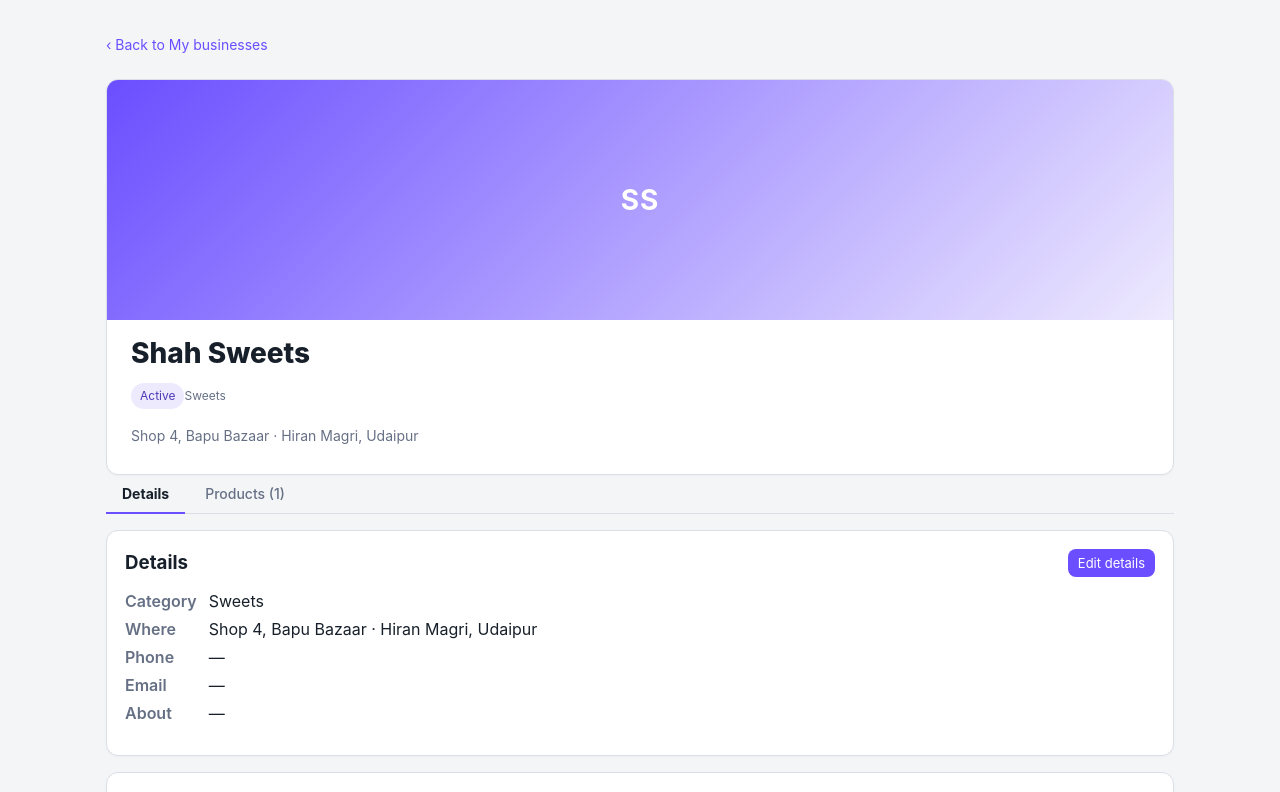
Test: ManageBusinessComponent › edits the details in a popup, with the address line and location
The width and height of the screenshot is (1280, 792).
Step 1. Click the button "Edit details" → [1111, 563], box [1068, 549, 1155, 577]
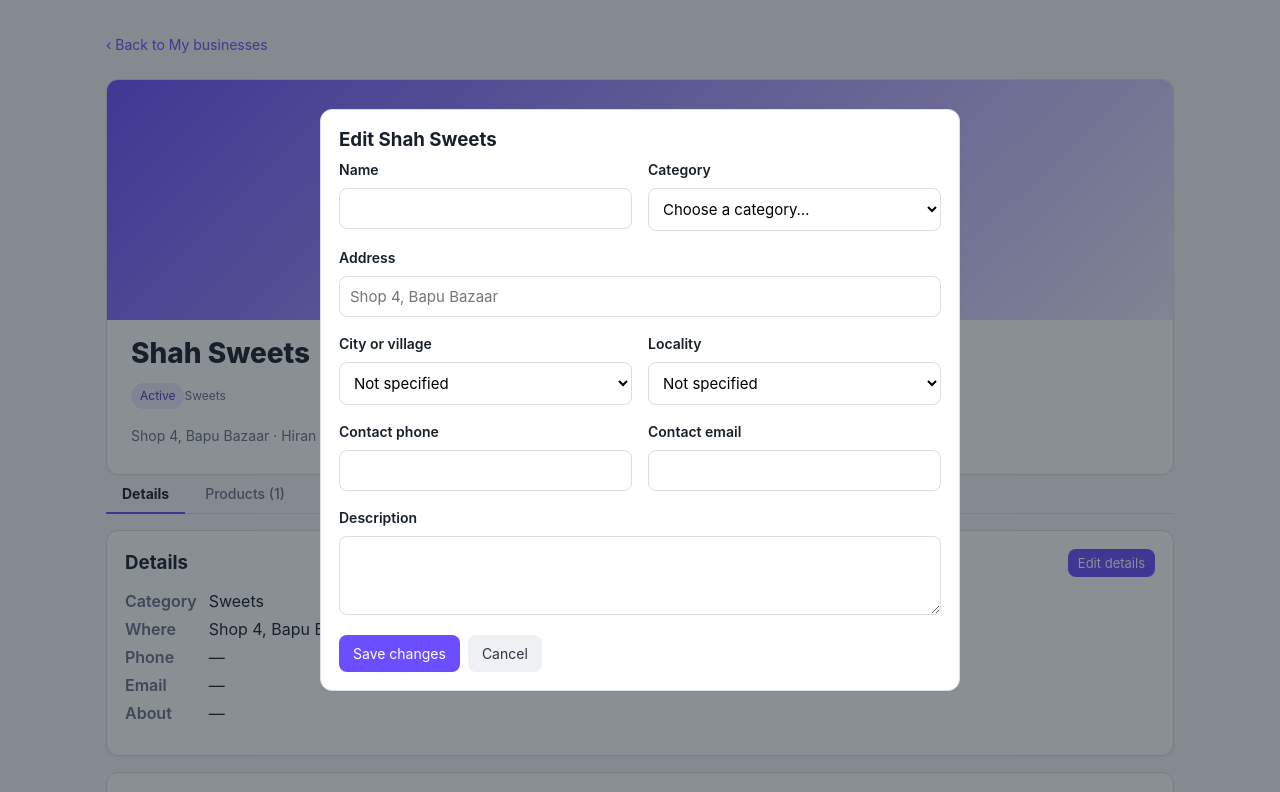
expect the dialog is shown: met, box [320, 109, 960, 691]
